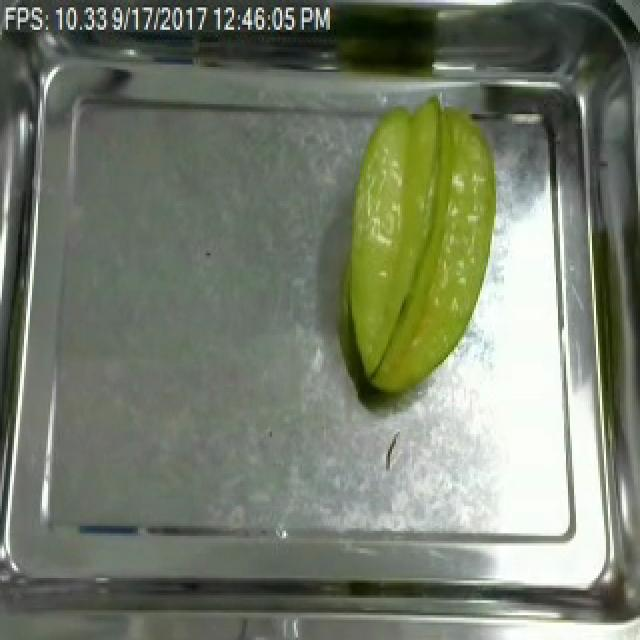fruit: (332, 89, 504, 407)
